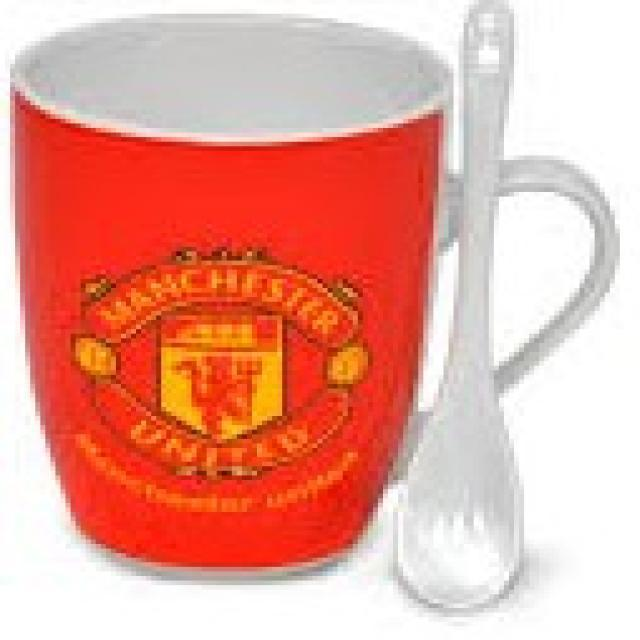taza: (7, 19, 631, 593)
